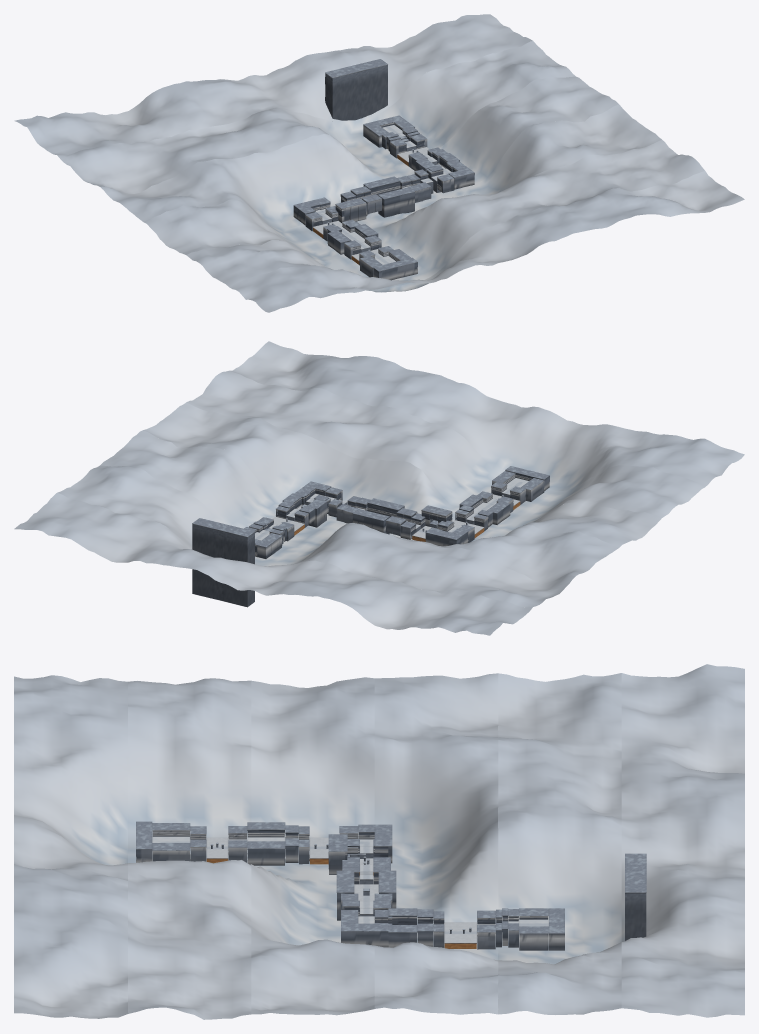
The model's file is aurora_night_terrain.glb.
3 renders of one model, top to bottom at view 1: azimuth 30°, elevation 25°; view 2: azimuth 150°, elevation 25°; view 3: azimuth 270°, elevation 25°, orthographic. The views are drawn at different scales.
Visible parts, largest first — view 1: backdrop_3, backdrop_5, backdrop_4, backdrop_1, backdrop_2, backdrop_0, terrain_J, terrain_F, terrain_E, terrain_H, terrain_A, terrain_I (+4 smaller); view 2: backdrop_0, backdrop_1, backdrop_5, backdrop_2, backdrop_4, backdrop_3, terrain_J, terrain_E, terrain_F, terrain_H, terrain_I, terrain_A (+4 smaller); view 3: backdrop_5, backdrop_4, backdrop_0, backdrop_1, backdrop_3, backdrop_2, terrain_J, terrain_H, terrain_I, terrain_E, terrain_C, terrain_F (+4 smaller).
Boxes of the visible parts, <box> form: backdrop_3: <box>100,76,618,229</box>; backdrop_5: <box>14,14,532,155</box>; backdrop_4: <box>57,41,575,193</box>; backdrop_1: <box>186,140,704,290</box>; backdrop_2: <box>143,104,661,260</box>; backdrop_0: <box>229,171,744,312</box>; terrain_J: <box>325,59,414,147</box>; terrain_F: <box>359,176,423,217</box>; terrain_E: <box>293,188,375,225</box>; terrain_H: <box>411,149,474,189</box>; terrain_A: <box>360,249,417,280</box>; terrain_I: <box>382,127,440,168</box>; backdrop_0: <box>230,341,744,490</box>; backdrop_1: <box>186,370,704,523</box>; backdrop_5: <box>14,492,532,635</box>; backdrop_2: <box>143,402,661,547</box>; backdrop_4: <box>57,465,575,607</box>; backdrop_3: <box>100,430,618,582</box>; terrain_J: <box>192,518,282,607</box>; terrain_E: <box>392,505,468,546</box>; terrain_F: <box>344,497,408,534</box>; terrain_H: <box>278,481,331,527</box>; terrain_I: <box>249,506,308,543</box>; terrain_A: <box>492,466,549,501</box>; backdrop_5: <box>621,664,744,1017</box>; backdrop_4: <box>498,673,621,1014</box>; backdrop_0: <box>14,675,127,1018</box>; backdrop_1: <box>128,678,251,1019</box>; backdrop_3: <box>374,673,498,1014</box>; backdrop_2: <box>251,677,374,1015</box>; terrain_J: <box>519,853,646,950</box>; terrain_H: <box>341,908,433,947</box>; terrain_I: <box>433,908,518,949</box>; terrain_E: <box>328,824,392,880</box>; terrain_C: <box>247,822,298,865</box>; terrain_F: <box>336,867,396,920</box>.
Bounding box in the file's own units: 581 × 82 × 539.
